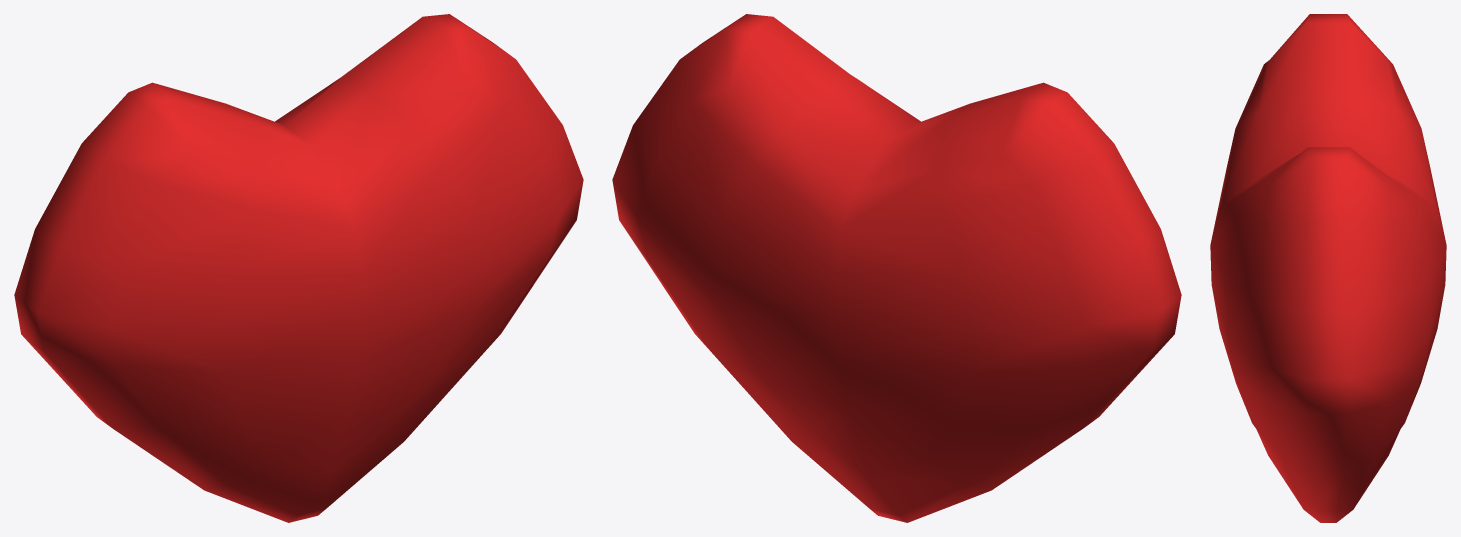
The picture shows the model from 3 angles, left to right: view 1: azimuth 30°, elevation 25°; view 2: azimuth 150°, elevation 25°; view 3: azimuth 270°, elevation 25°; orthographic projection. The views are drawn at different scales.
Visible parts, largest first — view 1: model_1.049; view 2: model_1.049; view 3: model_1.049.
Boxes of the visible parts, box(x1,y1,x2,y2) form: model_1.049: box(14, 14, 583, 522); model_1.049: box(612, 14, 1181, 522); model_1.049: box(1210, 14, 1446, 522).
Bounding box in the file's own units: 4.14 × 3.33 × 1.66.
